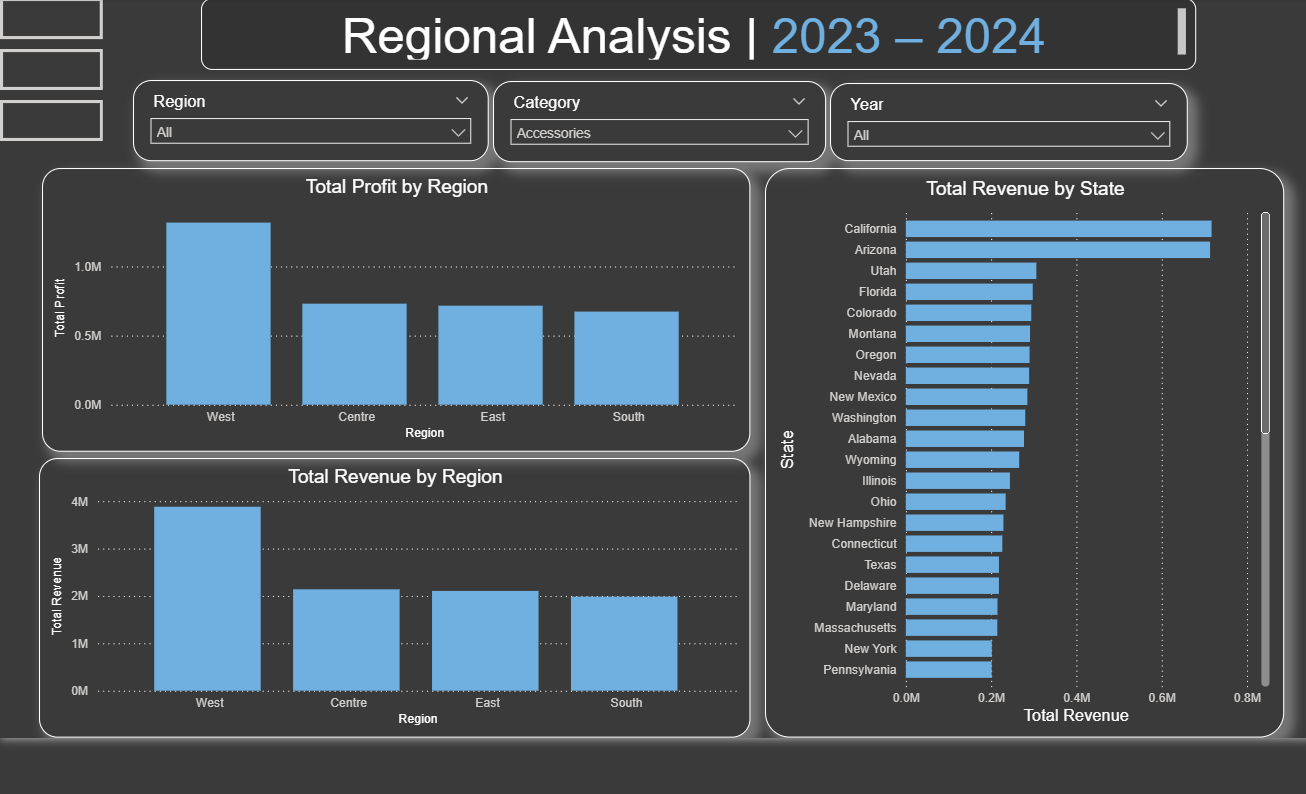

Layout of this report page (visuals, bound fields, positions):
{"tool":"powerbi","page":{"name":"Regional Analysis","canvas":[1280,720],"ordinal":2},"visuals":[{"type":"actionButton","box":[0,0,100,40],"z":0},{"type":"actionButton","box":[0,99.2,100.2,39.9],"z":1000},{"type":"actionButton","box":[0,49.6,100.2,39.9],"z":2000},{"type":"clusteredColumnChart","fields":{"Y":["product_sales_dataset_final.Total Revenue"],"Category":["product_sales_dataset_final.Region"]},"box":[37.9,447.4,691.6,272.3],"z":3000},{"type":"clusteredColumnChart","fields":{"Y":["product_sales_dataset_final.Total Profit"],"Category":["product_sales_dataset_final.Region"]},"box":[40.9,165.3,688.6,276.2],"z":4000},{"type":"barChart","fields":{"Y":["product_sales_dataset_final.Total Revenue"],"Category":["product_sales_dataset_final.State"]},"box":[744.1,165.3,504.8,554.4],"z":5000},{"type":"slicer","fields":{"Values":["product_sales_dataset_final.Region"]},"box":[129.4,79.8,346.3,78.8],"z":6000},{"type":"slicer","fields":{"Values":["product_sales_dataset_final.Category"]},"box":[479.5,80.7,323.9,78.8],"z":7000},{"type":"slicer","fields":{"Values":["DateTable.Year"]},"box":[807.3,82.7,348.2,75.9],"z":7001},{"type":"textbox","box":[195.5,0,967.8,70],"z":7002}]}

Visuals, with their boxes on the page's 1280x720 design canvas (x1, y1, x2, y2). These are canvas units, not pixel positions in the 1306x794 screenshot, which may show the page scaled, cropped or inside an application window:
actionButton: crop(0, 0, 100, 40)
actionButton: crop(0, 99, 100, 139)
actionButton: crop(0, 50, 100, 90)
clusteredColumnChart - product_sales_dataset_final.Total Revenue x product_sales_dataset_final.Region: crop(38, 447, 730, 720)
clusteredColumnChart - product_sales_dataset_final.Total Profit x product_sales_dataset_final.Region: crop(41, 165, 730, 442)
barChart - product_sales_dataset_final.Total Revenue x product_sales_dataset_final.State: crop(744, 165, 1249, 720)
slicer - product_sales_dataset_final.Region: crop(129, 80, 476, 159)
slicer - product_sales_dataset_final.Category: crop(480, 81, 803, 160)
slicer - DateTable.Year: crop(807, 83, 1156, 159)
textbox: crop(196, 0, 1163, 70)
